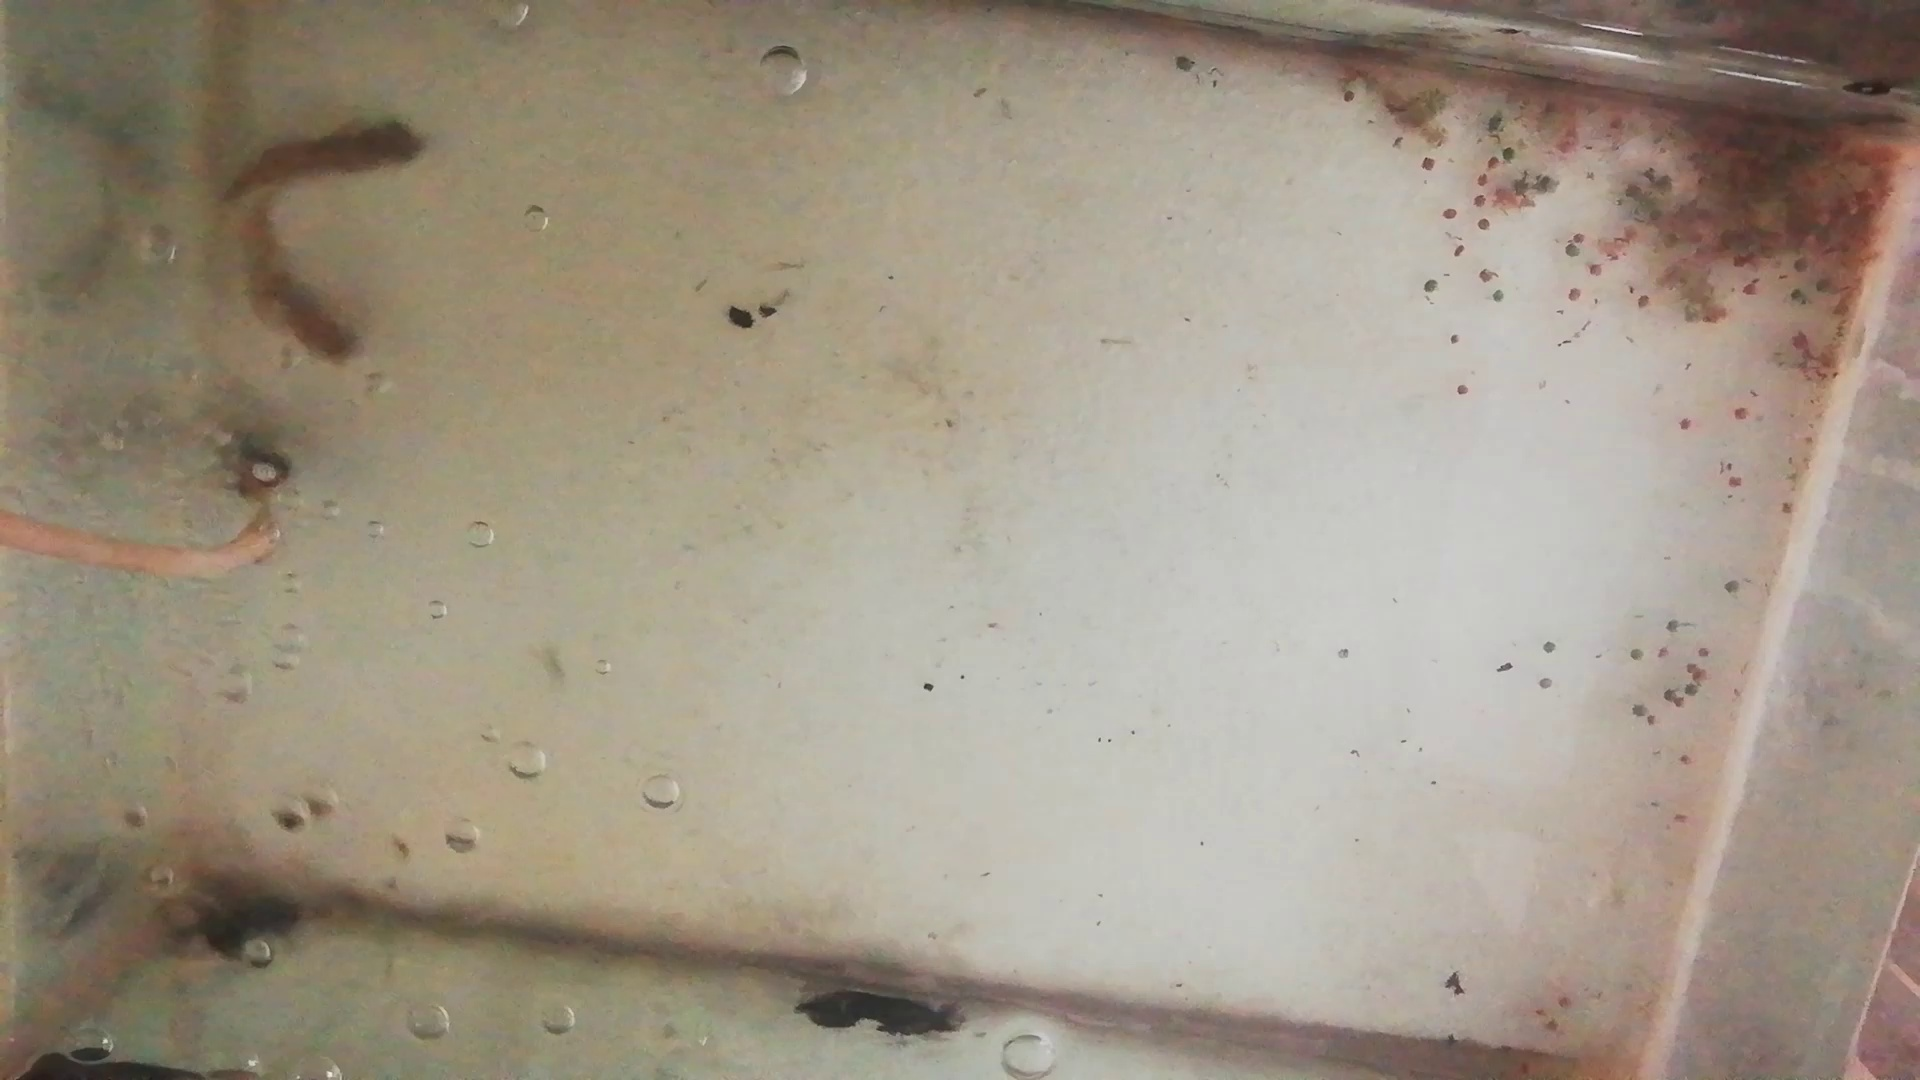fish: (233, 203, 363, 365), (216, 115, 421, 187)
